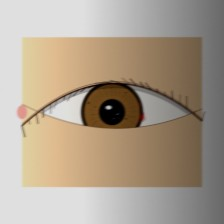hemorrhage_spot: (87, 89, 153, 141)
